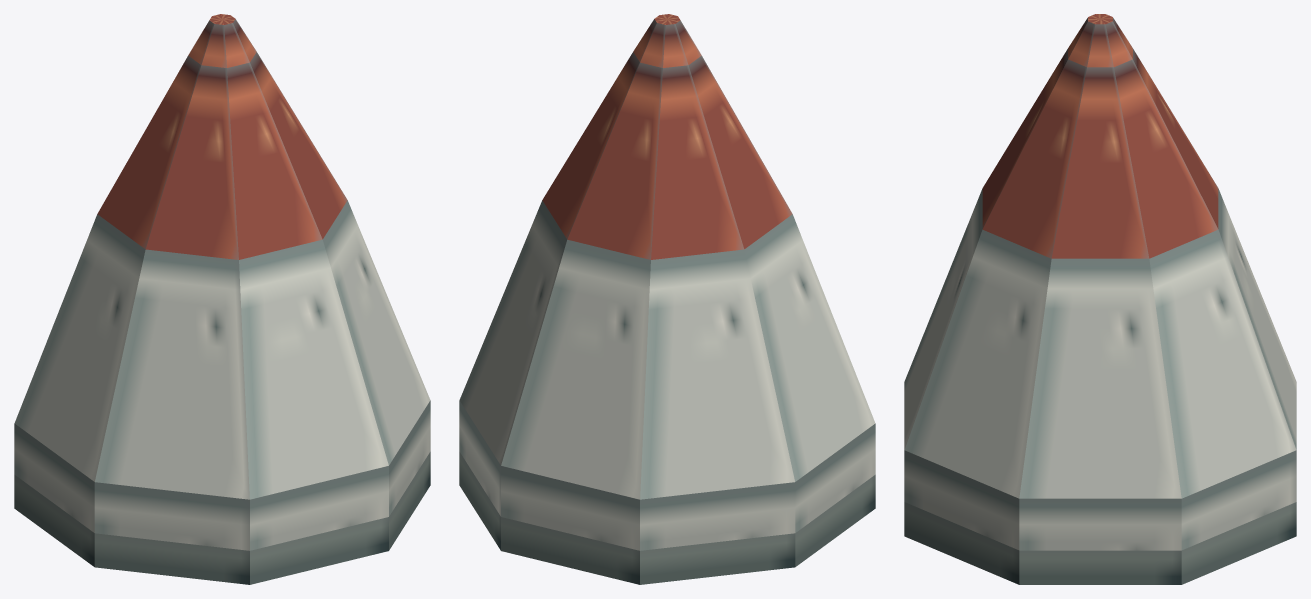
File: rocket_cone_basic.obj
3 renders of one model, left to right at view 1: azimuth 30°, elevation 25°; view 2: azimuth 150°, elevation 25°; view 3: azimuth 270°, elevation 25°, orthographic.
Parts seen in each view (by area): view 1: Cone; view 2: Cone; view 3: Cone.
Part boxes in pixels (x1=…): Cone: x1=14, y1=14, x2=430, y2=584; Cone: x1=459, y1=14, x2=875, y2=584; Cone: x1=904, y1=14, x2=1296, y2=584.
Bounding box in the file's own units: 1.29 × 1.75 × 1.29.
